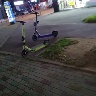beam: (28, 10, 60, 41)
gcooter: (14, 19, 50, 57)
